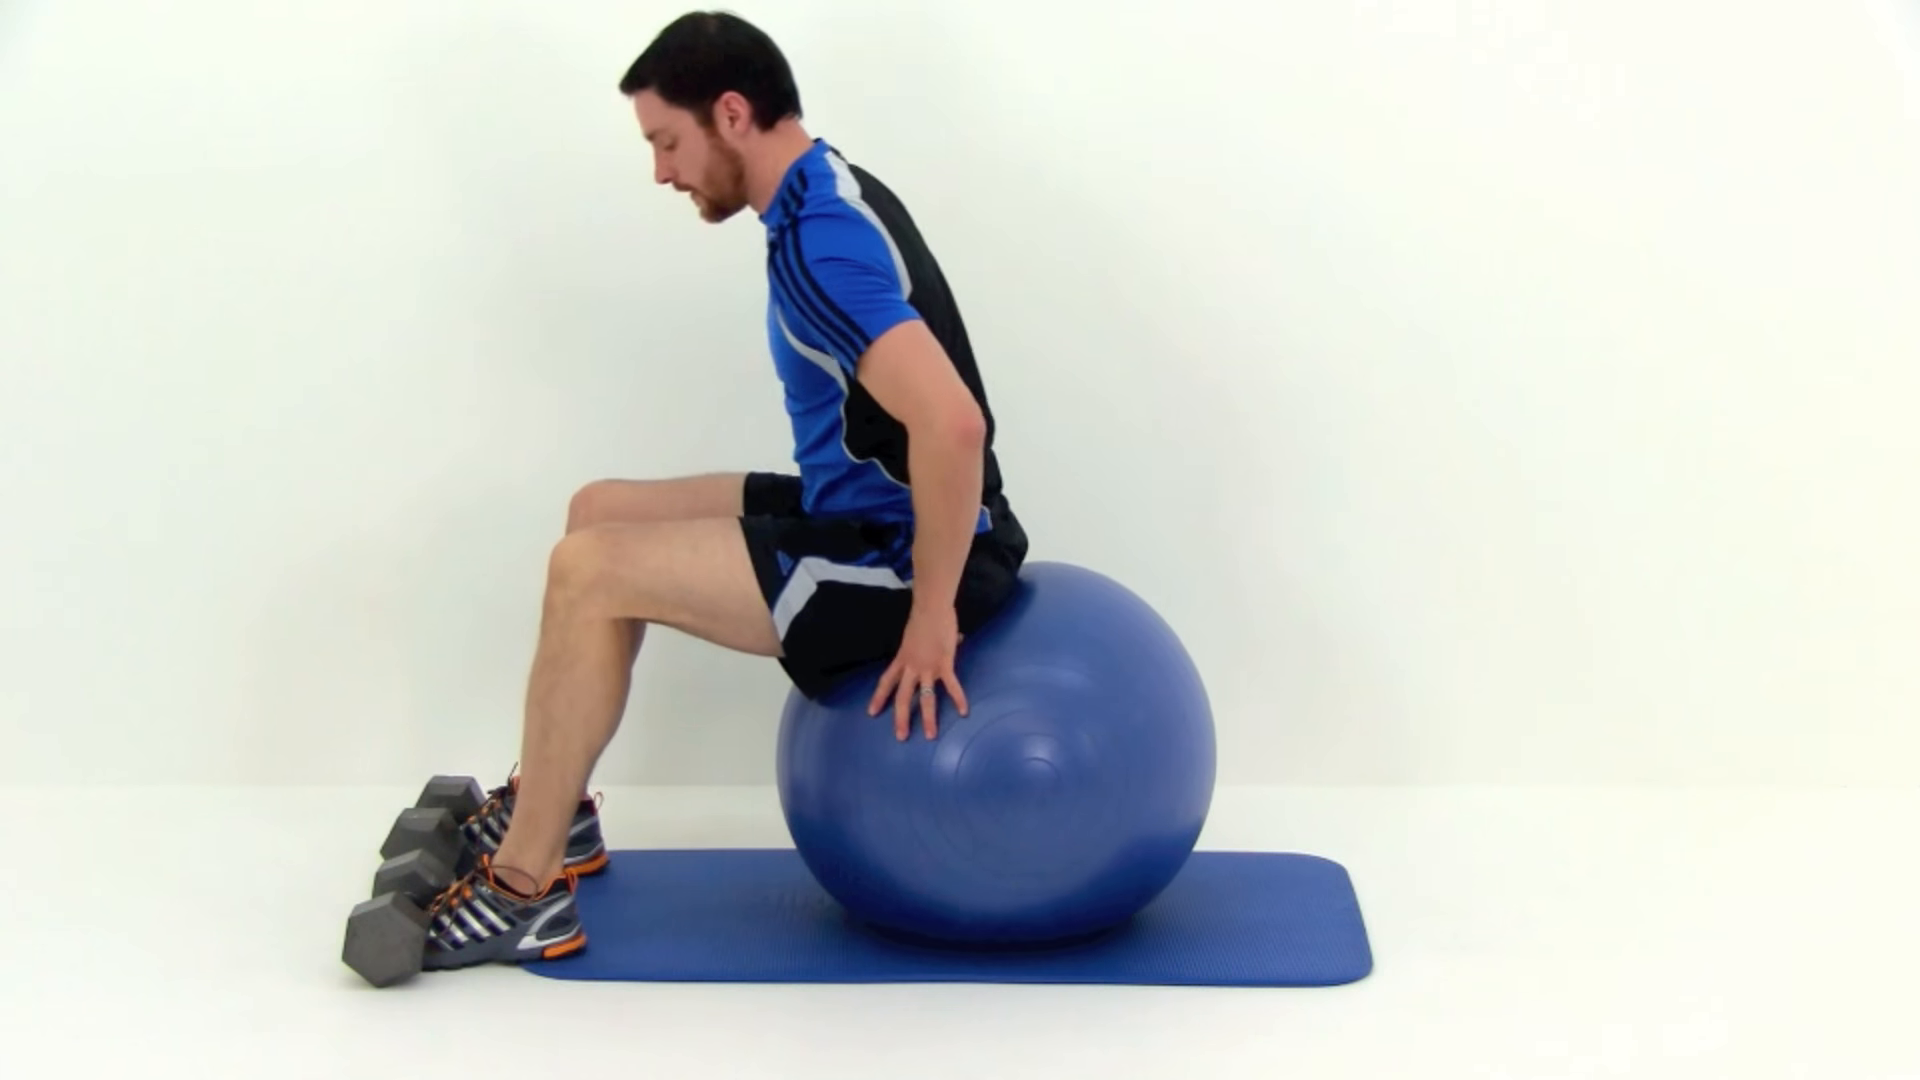yogaball: (765, 556, 1238, 965)
